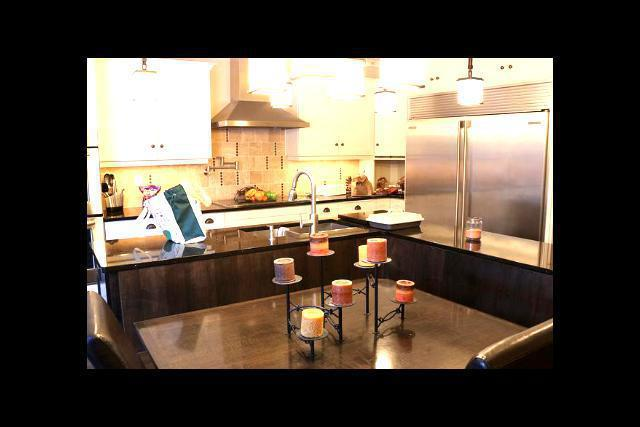Lavaplatos: (247, 170, 356, 241)
